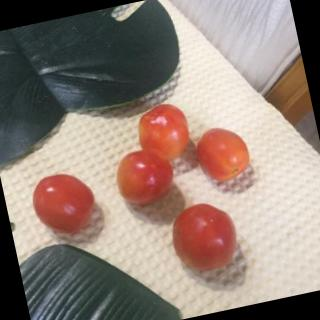Tomat: (155, 190, 254, 283), (22, 162, 106, 244), (128, 93, 197, 172), (110, 142, 181, 209), (190, 123, 256, 187)
